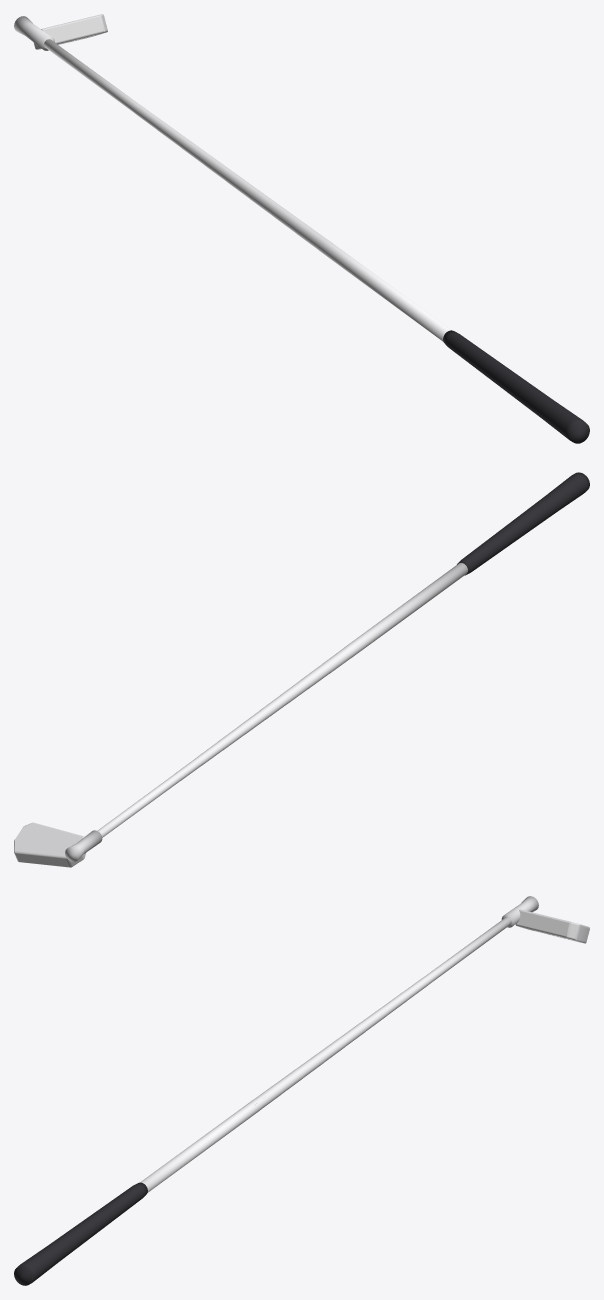
File: Weapon_GolfClub.glb
3 renders of one model, top to bottom at view 1: azimuth 30°, elevation 25°; view 2: azimuth 150°, elevation 25°; view 3: azimuth 330°, elevation 25°, orthographic. The views are drawn at different scales.
Visible parts, largest first — view 1: Weapon_GolfClub_Game; view 2: Weapon_GolfClub_Game; view 3: Weapon_GolfClub_Game.
Boxes of the visible parts, x1=… form: Weapon_GolfClub_Game: x1=14, y1=14, x2=589, y2=443; Weapon_GolfClub_Game: x1=14, y1=472, x2=589, y2=867; Weapon_GolfClub_Game: x1=14, y1=896, x2=589, y2=1285.
Bounding box in the file's own units: 0.099 × 0.0437 × 1.2.
1 material, 1 textured.
